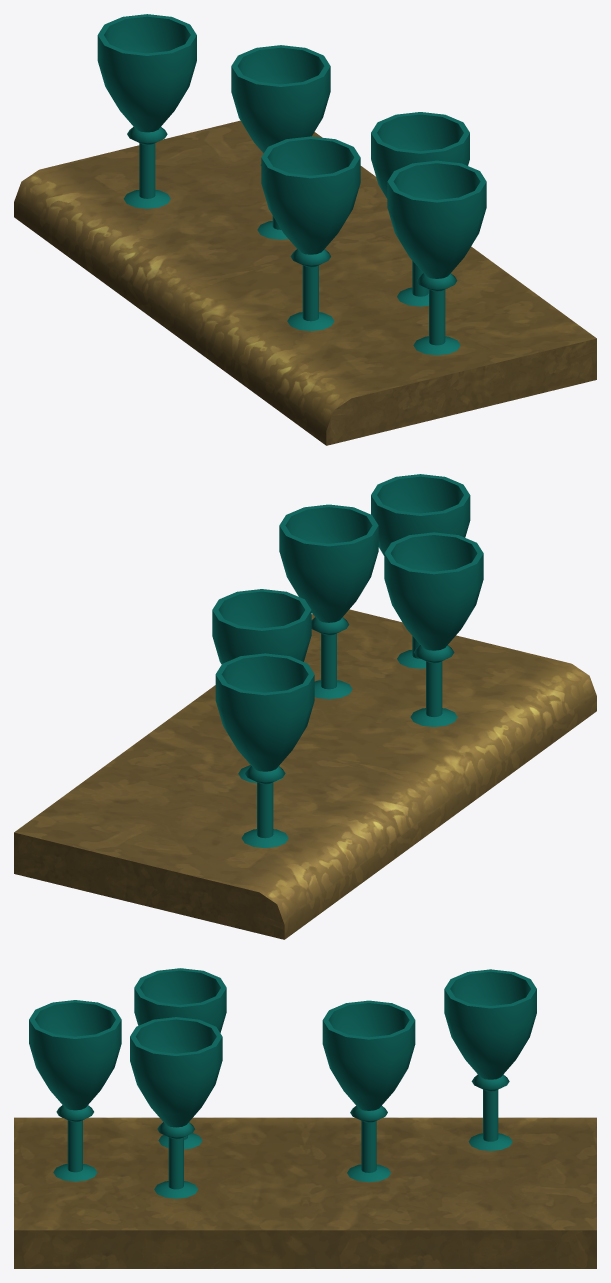
File: DI_102_glasses_on_shelf.glb
3 views of the same model, one above another, from view 1: azimuth 30°, elevation 25°; view 2: azimuth 150°, elevation 25°; view 3: azimuth 270°, elevation 25° (orthographic). The views are drawn at different scales.
Parts seen in each view (by area): view 1: Shelf.001, Glass.003, Glass.004, Glass.006, Glass.005, Glass.002; view 2: Shelf.001, Glass.006, Glass.004, Glass.002, Glass.005, Glass.003; view 3: Shelf.001, Glass.005, Glass.006, Glass.002, Glass.003, Glass.004.
Part boxes in pixels (bbox=[...]): Shelf.001: bbox=[14, 120, 596, 445]; Glass.003: bbox=[387, 160, 486, 355]; Glass.004: bbox=[261, 136, 360, 330]; Glass.006: bbox=[97, 14, 196, 208]; Glass.005: bbox=[231, 45, 330, 239]; Glass.002: bbox=[371, 112, 469, 306]; Shelf.001: bbox=[14, 609, 596, 939]; Glass.006: bbox=[215, 653, 314, 847]; Glass.004: bbox=[384, 532, 483, 726]; Glass.002: bbox=[279, 504, 378, 699]; Glass.005: bbox=[212, 589, 311, 782]; Glass.003: bbox=[371, 474, 470, 668]; Shelf.001: bbox=[14, 1117, 596, 1268]; Glass.005: bbox=[322, 1000, 415, 1182]; Glass.006: bbox=[444, 969, 536, 1150]; Glass.002: bbox=[130, 1017, 222, 1198]; Glass.003: bbox=[29, 1000, 121, 1181]; Glass.004: bbox=[134, 968, 226, 1149].
Size of the model in its own units: 0.75 by 0.5436 by 1.5.
Materials: 2 (1 with a texture image).
